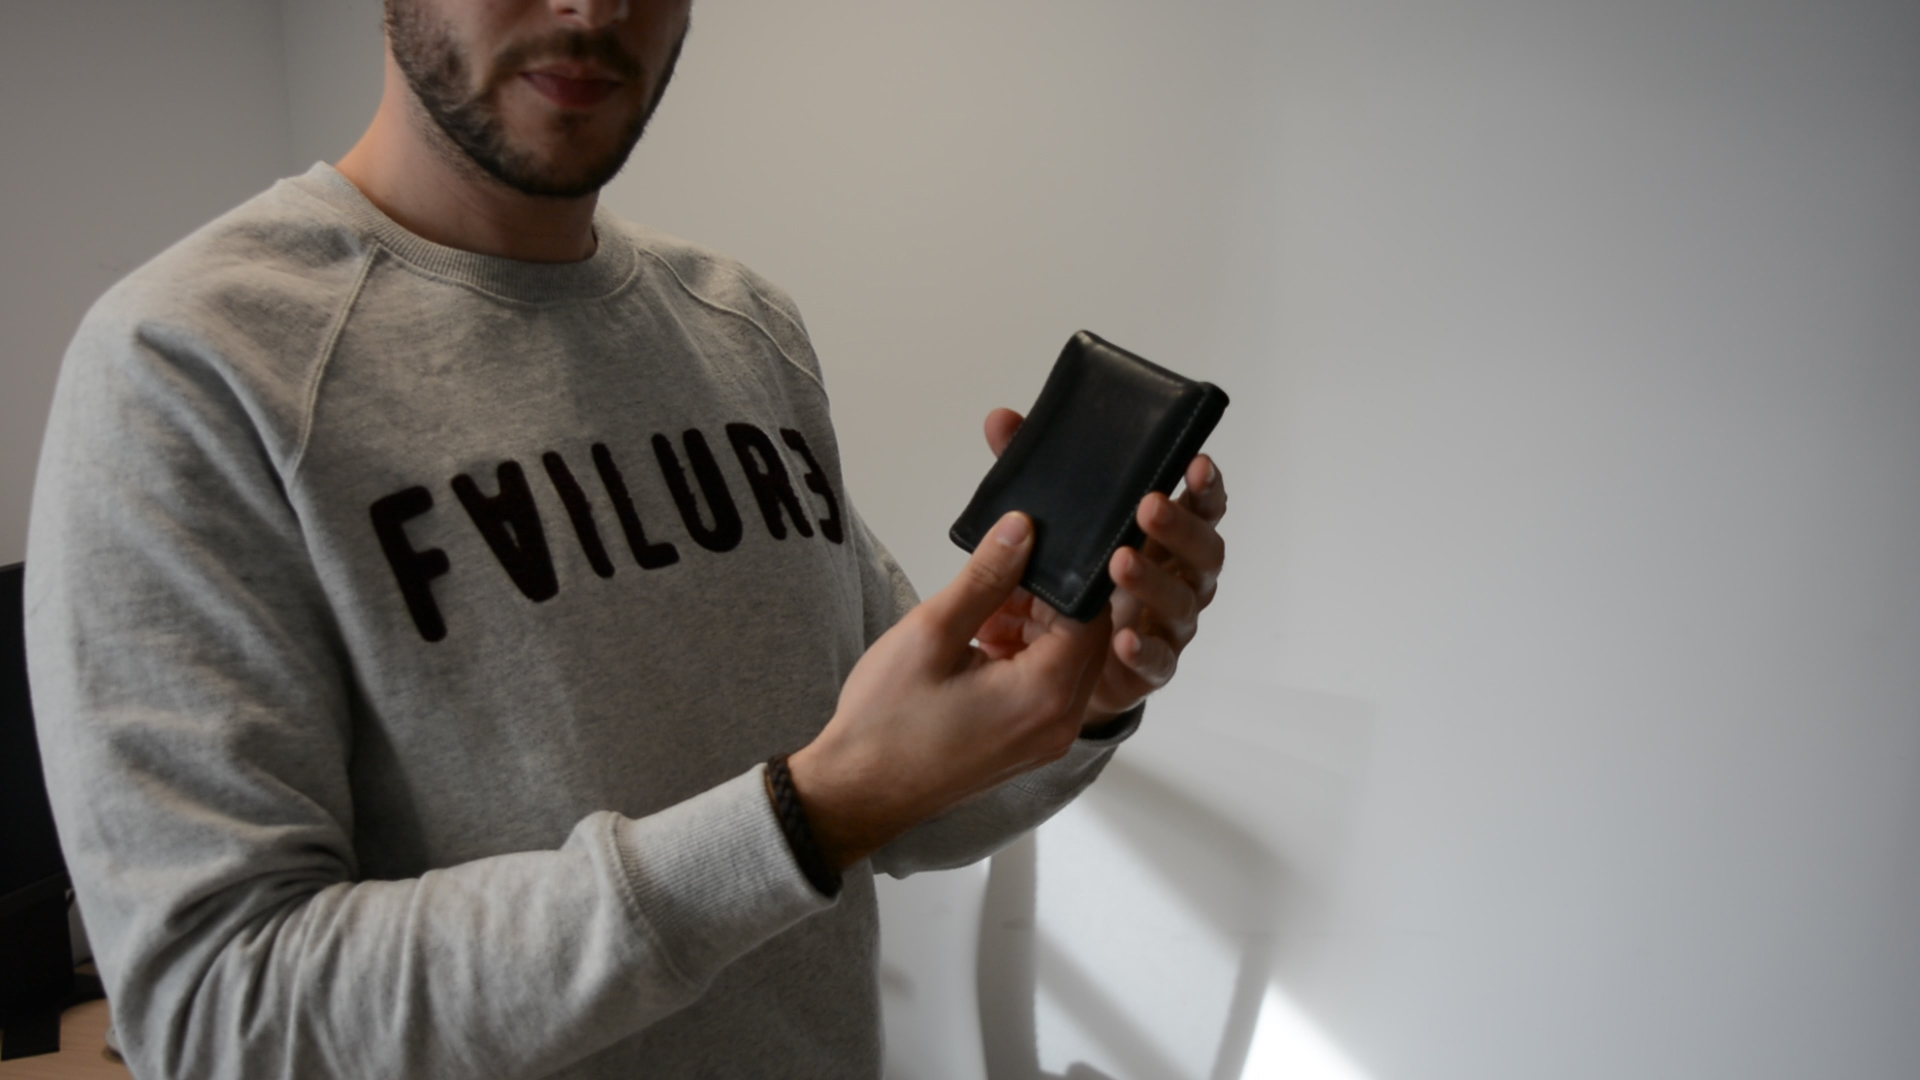monedero: (948, 328, 1232, 626)
